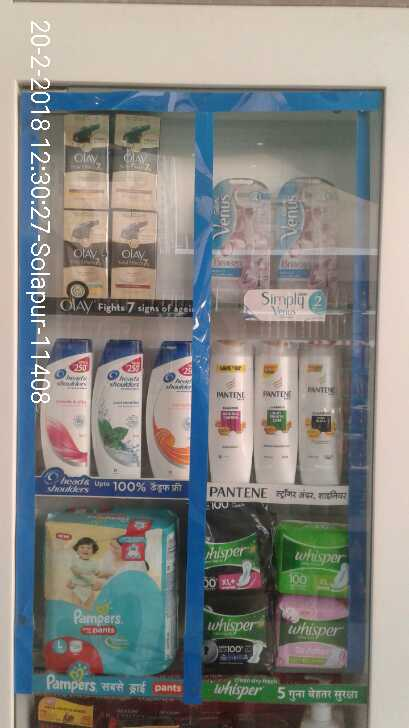venus: (270, 181, 332, 294), (211, 184, 270, 294)
